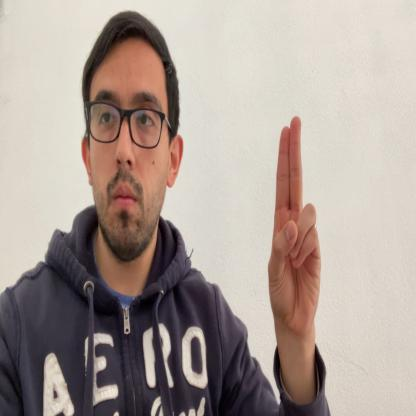U: (268, 116, 321, 343)
